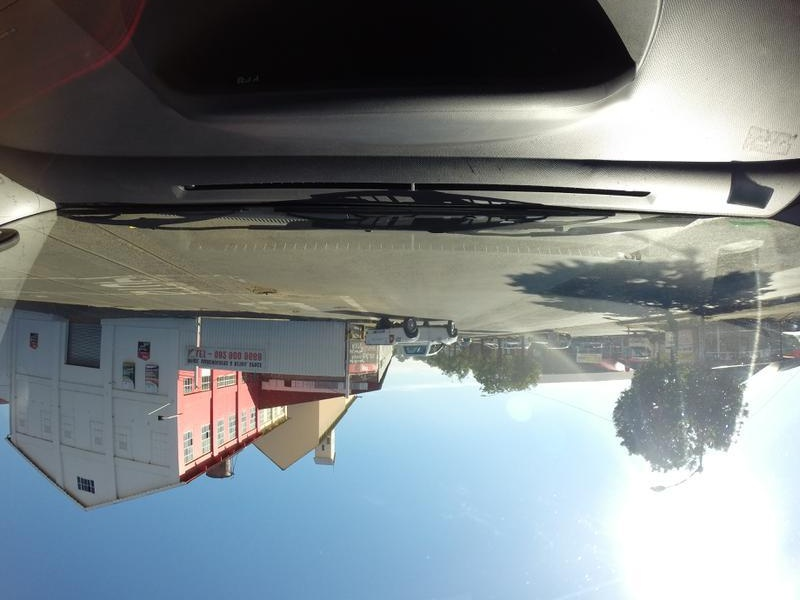pothole: (246, 277, 288, 303)
